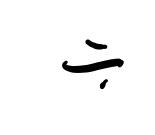div: (61, 39, 124, 88)
